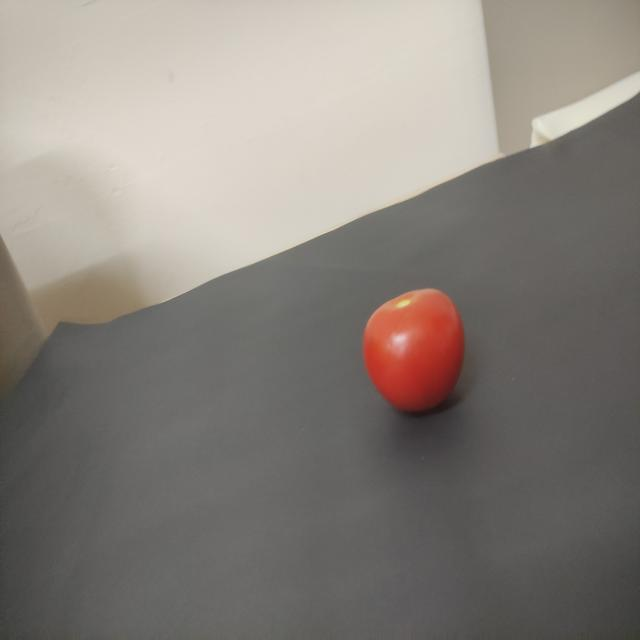kirmizi: (350, 264, 494, 442)
